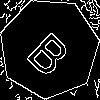B: (24, 23, 80, 80)
